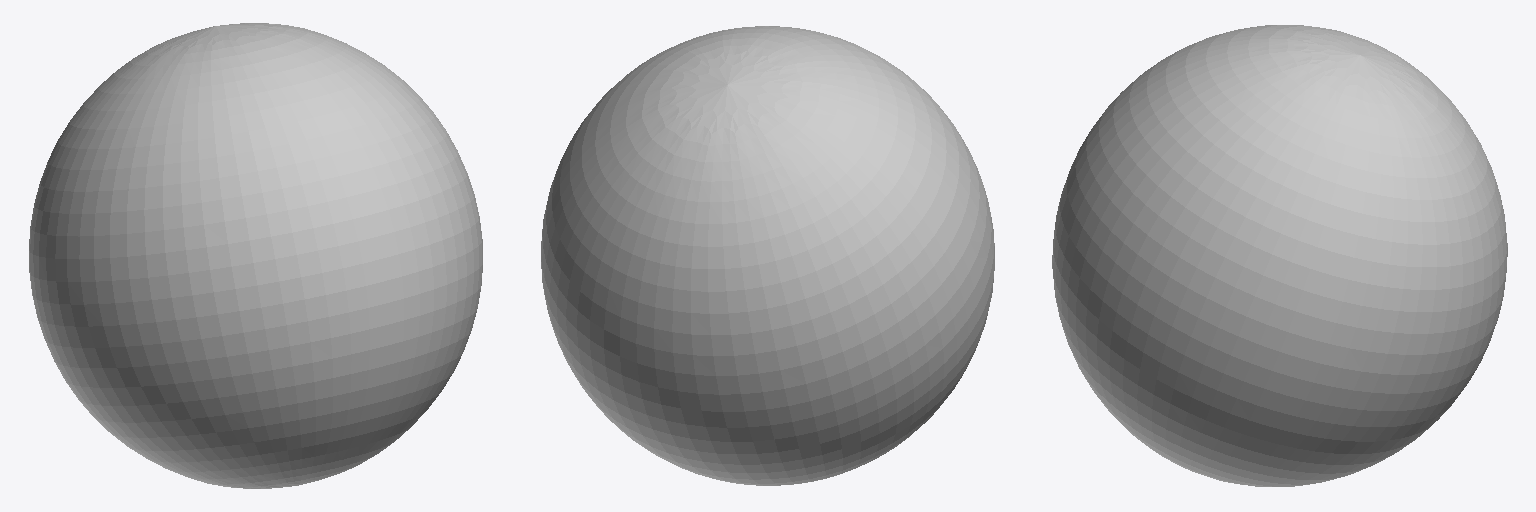
File: ball7.obj
The picture shows the model from 3 angles: view 1: azimuth 30°, elevation 25°; view 2: azimuth 150°, elevation 25°; view 3: azimuth 270°, elevation 25°; orthographic projection.
Visible parts, largest first — view 1: Sphere01.011; view 2: Sphere01.011; view 3: Sphere01.011.
Boxes of the visible parts, <box> form: Sphere01.011: <box>29,23,482,488</box>; Sphere01.011: <box>541,26,994,485</box>; Sphere01.011: <box>1052,25,1507,486</box>.
Bounding box in the file's own units: 5.45 × 5.58 × 5.46.